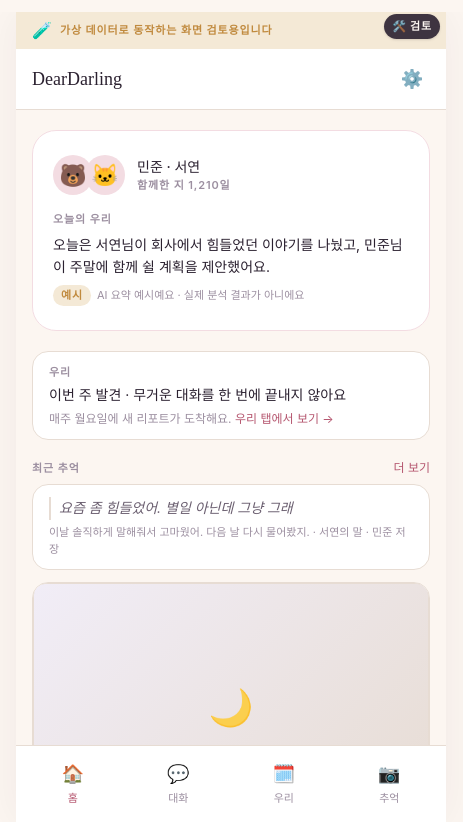
Scenario: 4탭 내비게이션 › 홈 상단 설정 버튼으로 설정에 들어갔다가 홈으로 돌아온다
Click the button named "설정": (412,79) [394, 61, 430, 97]
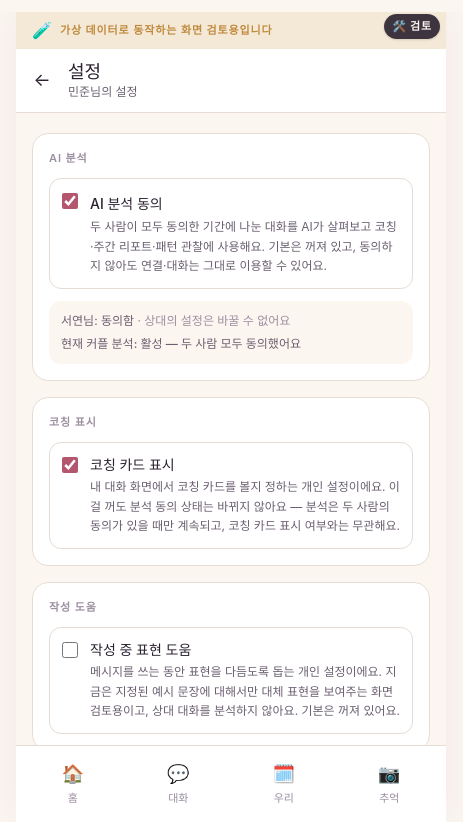
Now the checkbox labelled "AI 분석 동의" is shown, box [62, 193, 78, 209]
Now the button "⚙️" is gone
Click the button named "홈으로": (42,80) [24, 62, 60, 98]
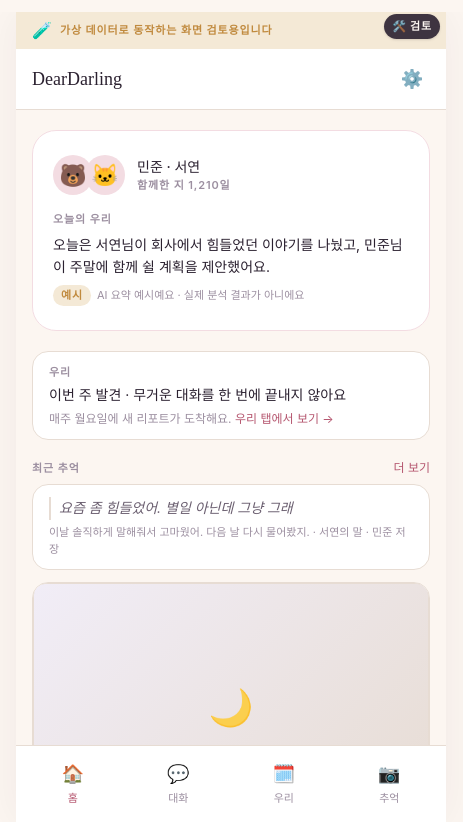
Now the text "함께한 지 1,210일" is shown, box [137, 177, 231, 193]
